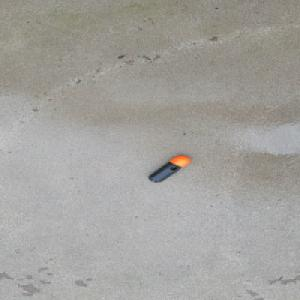PlasticPart: (147, 155, 191, 183)
